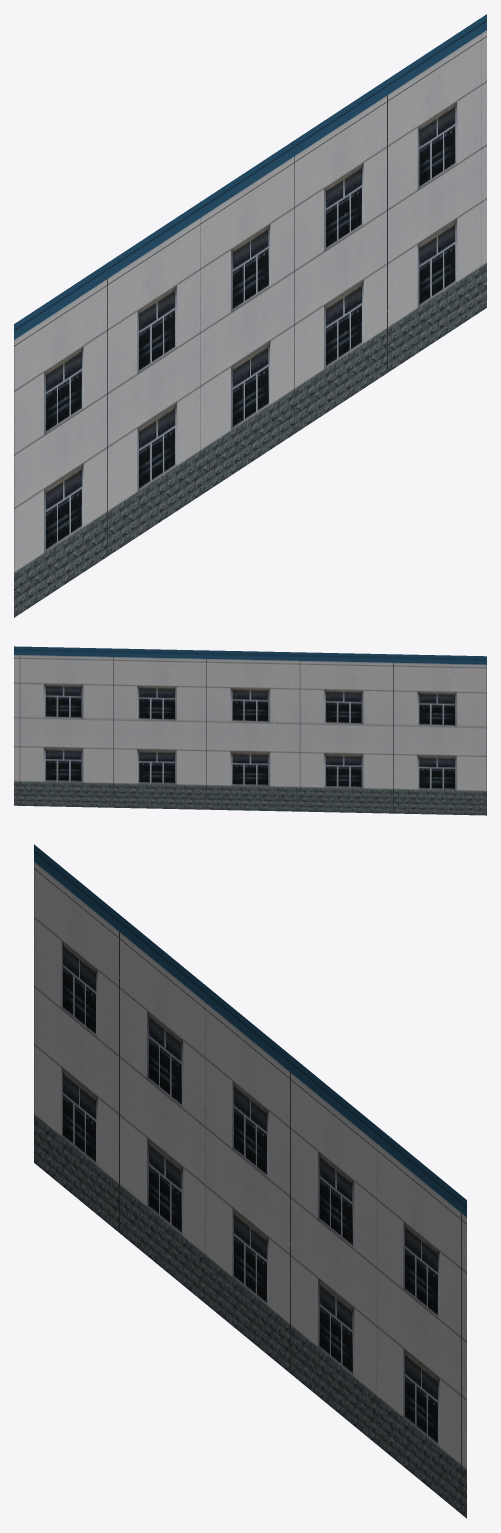
File: myFileName_1092.glb
The picture shows the model from 3 angles, top to bottom: view 1: azimuth 30°, elevation 25°; view 2: azimuth 150°, elevation 25°; view 3: azimuth 270°, elevation 25°; orthographic projection. The views are drawn at different scales.
Bounding box in the file's own units: 22.68 × 9.46 × 11.65.
1 material, 1 textured.
